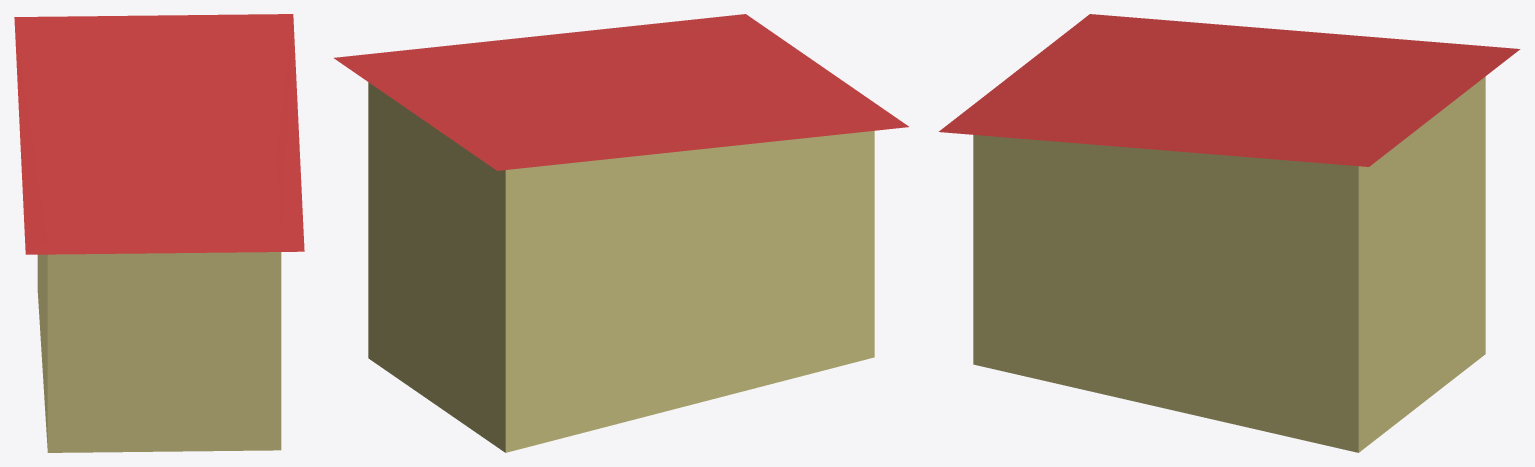
The picture shows the model from 3 angles, left to right: view 1: azimuth 30°, elevation 25°; view 2: azimuth 150°, elevation 25°; view 3: azimuth 270°, elevation 25°; orthographic projection. The views are drawn at different scales.
Bounding box in the file's own units: 9.94 × 11.28 × 6.43.
